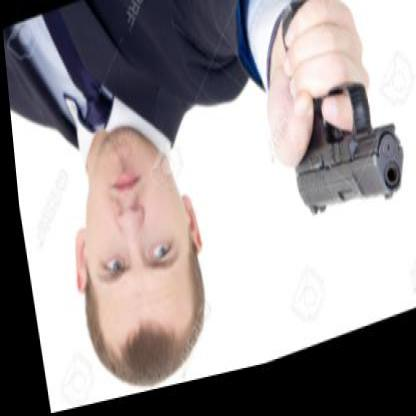pistol: (279, 79, 407, 245)
